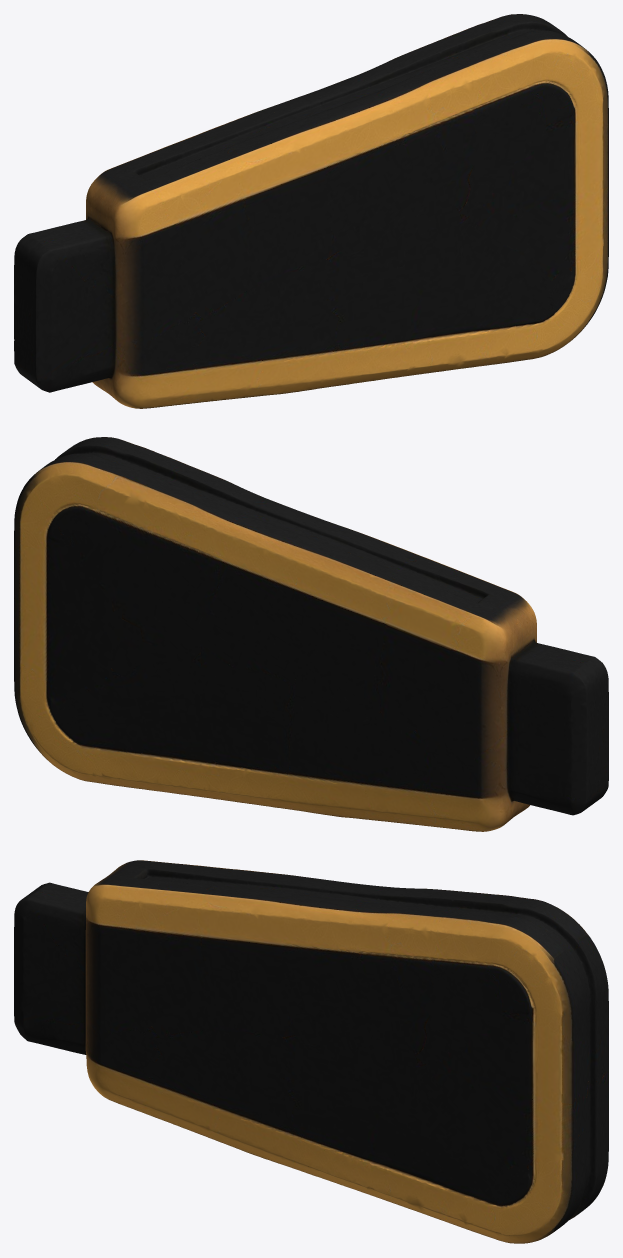
The model's file is HatWing.glb.
The picture shows the model from 3 angles, top to bottom: view 1: azimuth 30°, elevation 25°; view 2: azimuth 150°, elevation 25°; view 3: azimuth 330°, elevation 25°; orthographic projection.
Parts seen in each view (by area): view 1: Mesh_0.002; view 2: Mesh_0.002; view 3: Mesh_0.002.
Part boxes in pixels (<box>): Mesh_0.002: <box>14,14,608,408</box>; Mesh_0.002: <box>14,437,608,831</box>; Mesh_0.002: <box>14,860,608,1243</box>.
Size of the model in its own units: 1.9 by 1.02 by 0.2547.
1 material, 1 textured.
